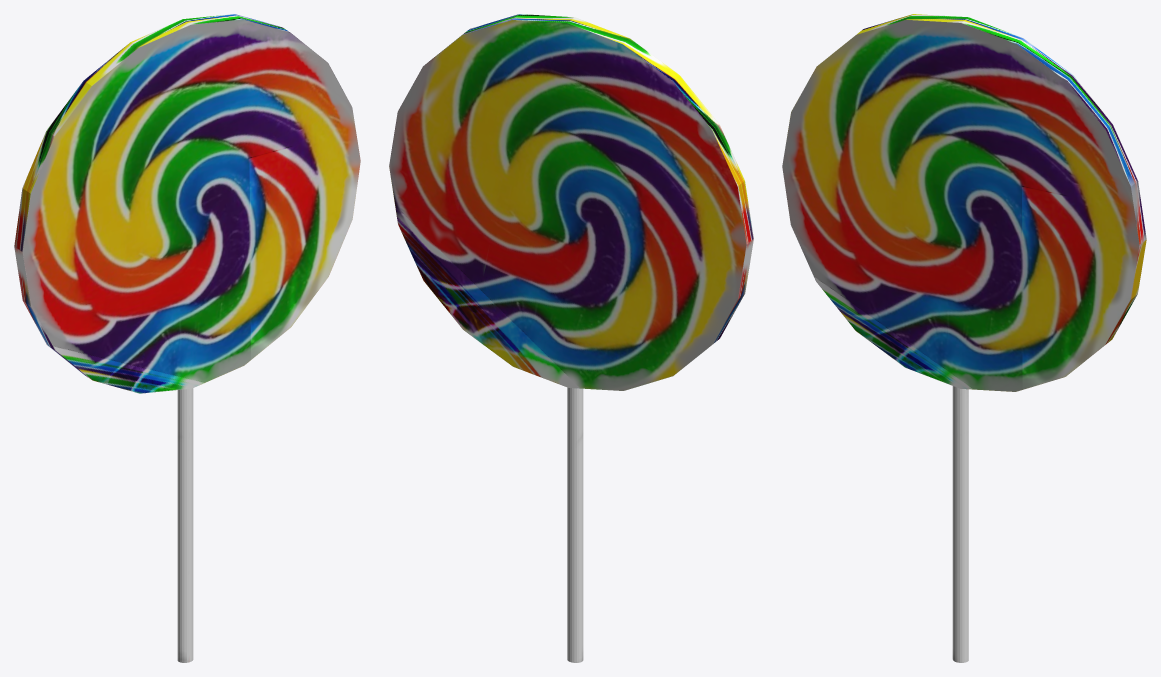
3 views of the same model, side by side, from view 1: azimuth 30°, elevation 25°; view 2: azimuth 150°, elevation 25°; view 3: azimuth 330°, elevation 25° (orthographic).
Visible parts, largest first — view 1: ScoobertLollyPop_HighNLow; view 2: ScoobertLollyPop_HighNLow; view 3: ScoobertLollyPop_HighNLow.
Boxes of the visible parts, x1,y1,x2,y2 form: ScoobertLollyPop_HighNLow: [14, 14, 360, 662]; ScoobertLollyPop_HighNLow: [389, 14, 753, 662]; ScoobertLollyPop_HighNLow: [782, 14, 1146, 662].
Bounding box in the file's own units: 0.00993 × 0.0174 × 0.000815.
Materials: 1 (1 with a texture image).
